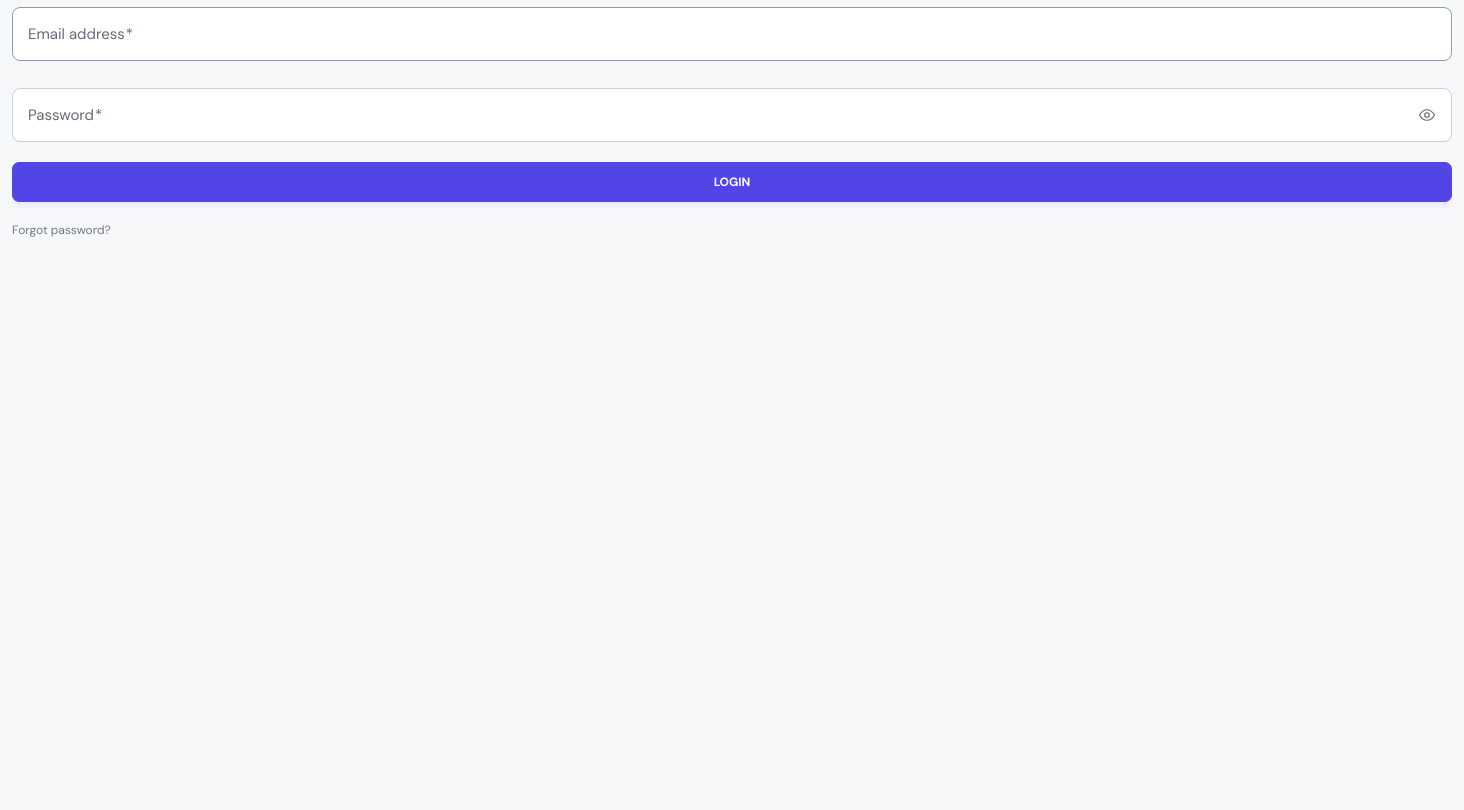
Test: authentication forms block invalid requests › uses the employer portal and stays on the form after a professional account is rejected
The image size is (1464, 810).
Click the button named "LOGIN". click: (732, 182)
box: [12,162,1452,202]
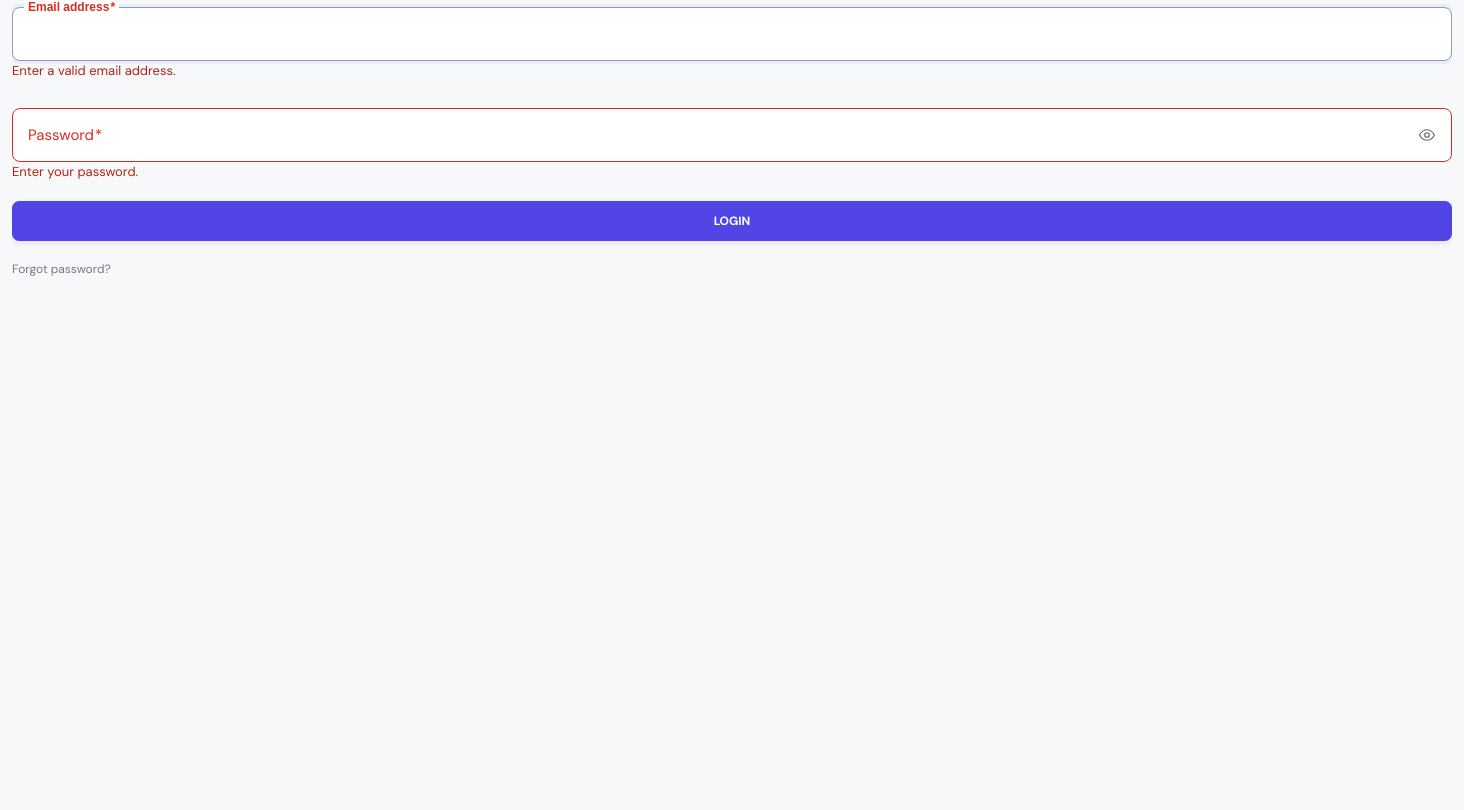
Type "professional@example.test" into the field labelled "Email address". click: (732, 34)
box: [12,7,1452,61]
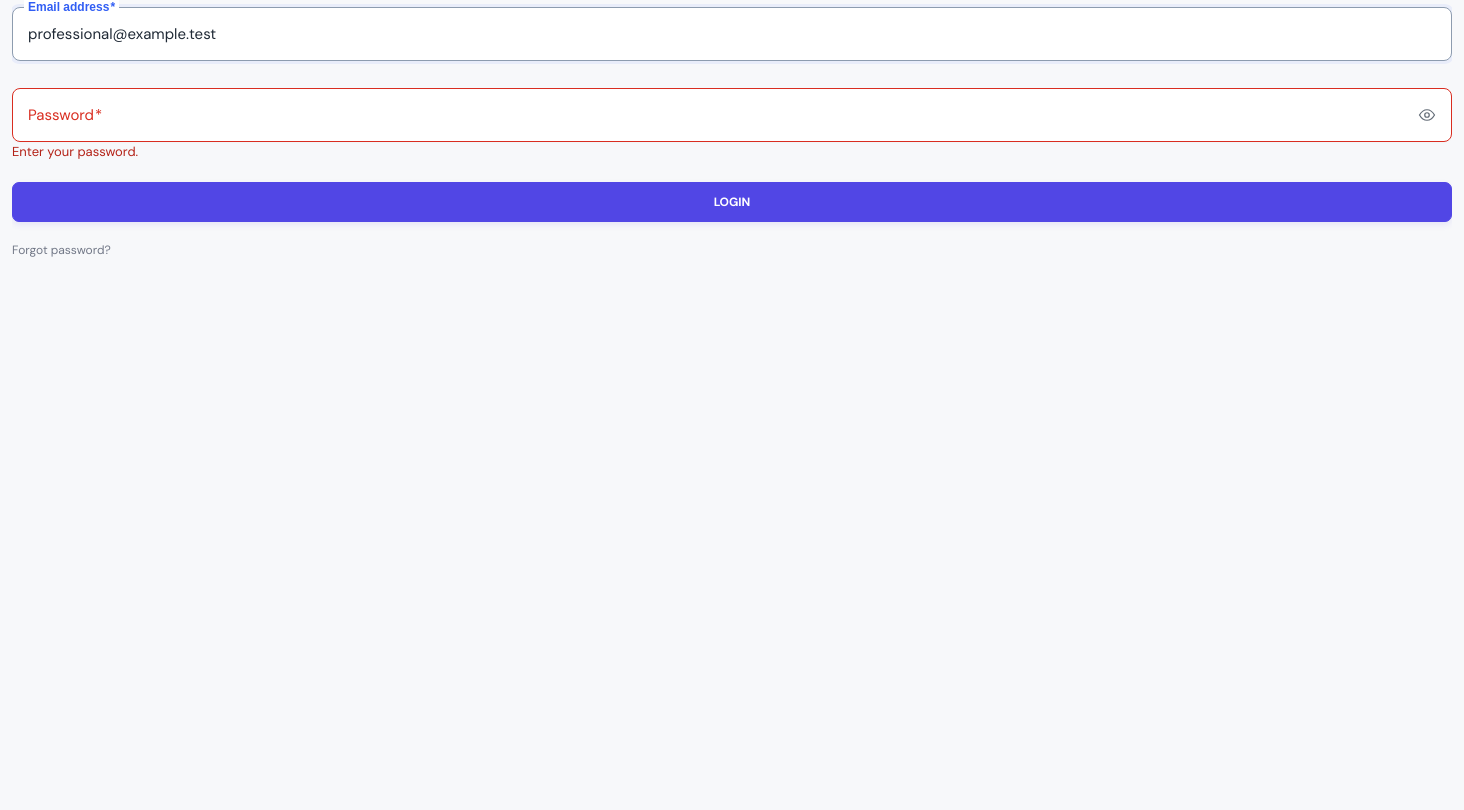
Type "password" into the password field labelled "Password*". click: (732, 115)
box: [12,88,1452,142]
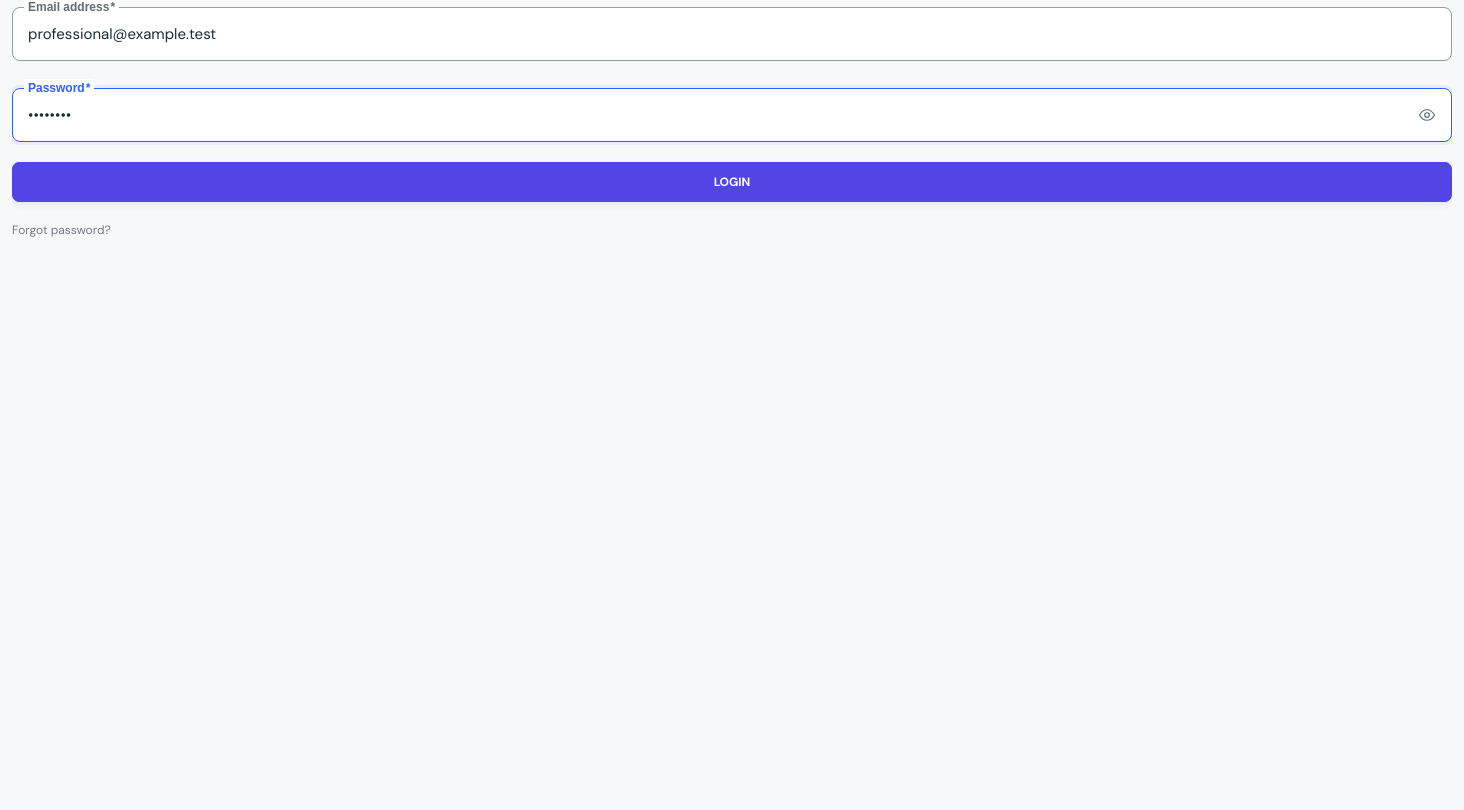
Click the button named "LOGIN". click: (732, 182)
box: [12,162,1452,202]
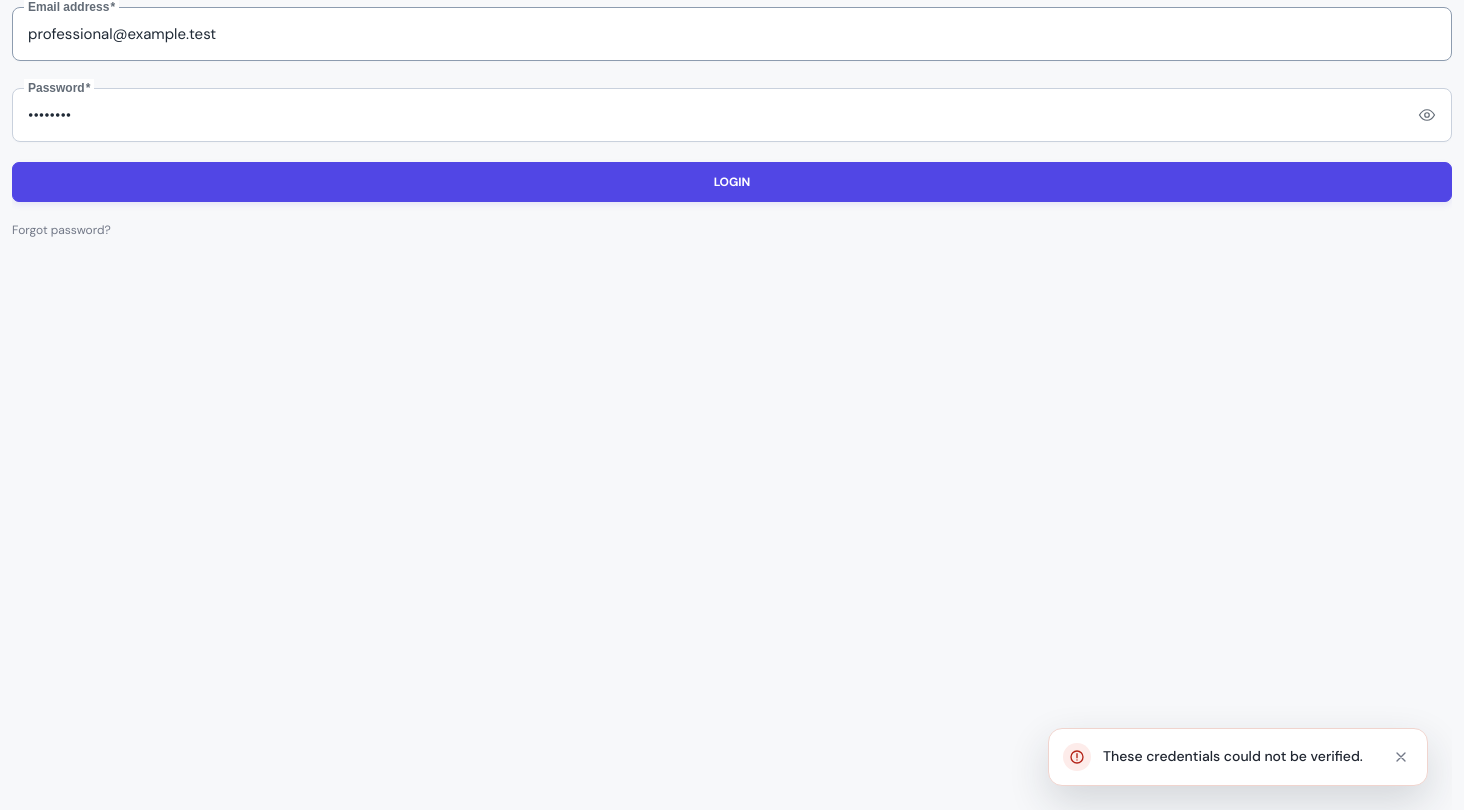
Result: the message reads "These credentials could not be verified." at [1103,747,1363,765]
